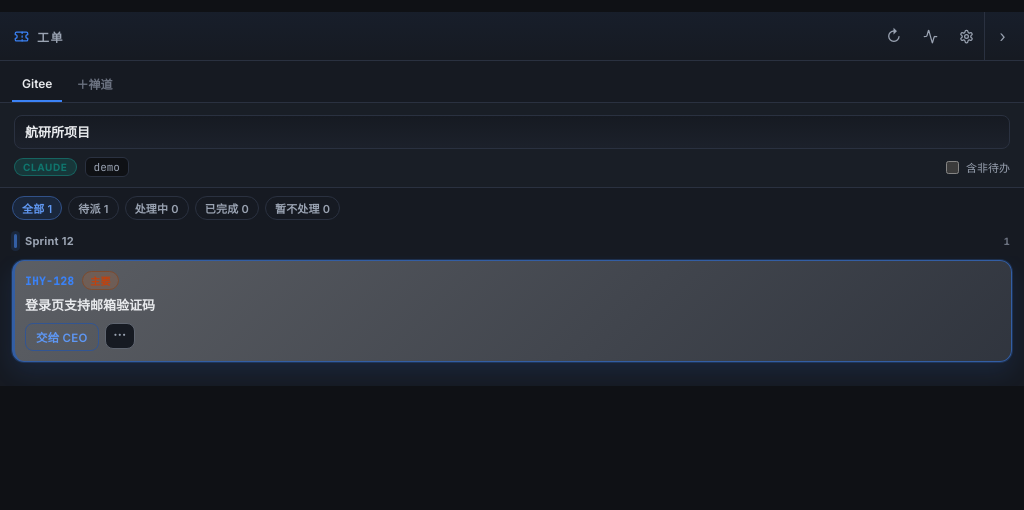
Test: TicketInbox (API) › loads projects and todos from API
This screenshot has width=1024, height=510.
Click the button with class "ticket-more" at [120, 336], box [105,323,135,349]
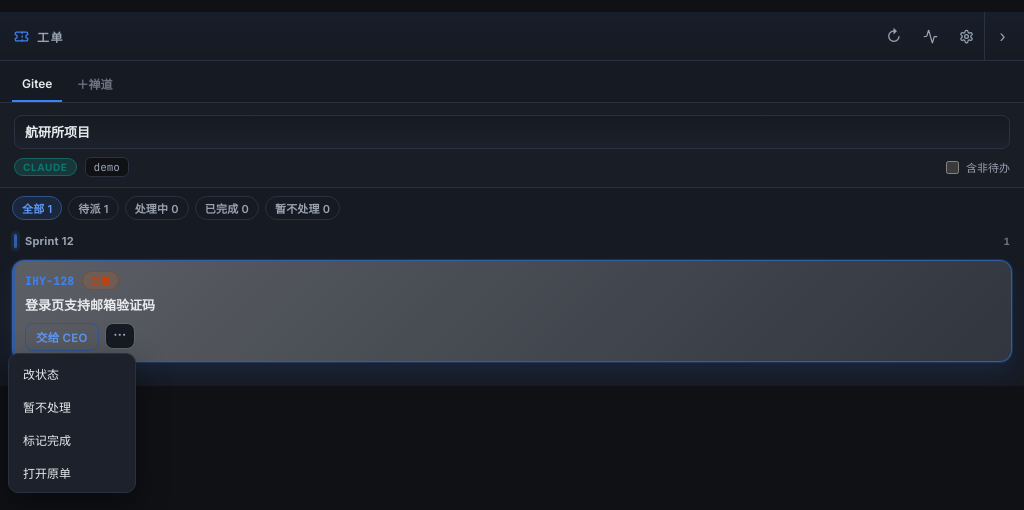
Expected: the text "暂不处理" is shown, [265,196,340,220]
Now the text "改状态" is shown, box [13,358,131,389]
Now the text "打开原单" is shown, box [13,457,131,488]
